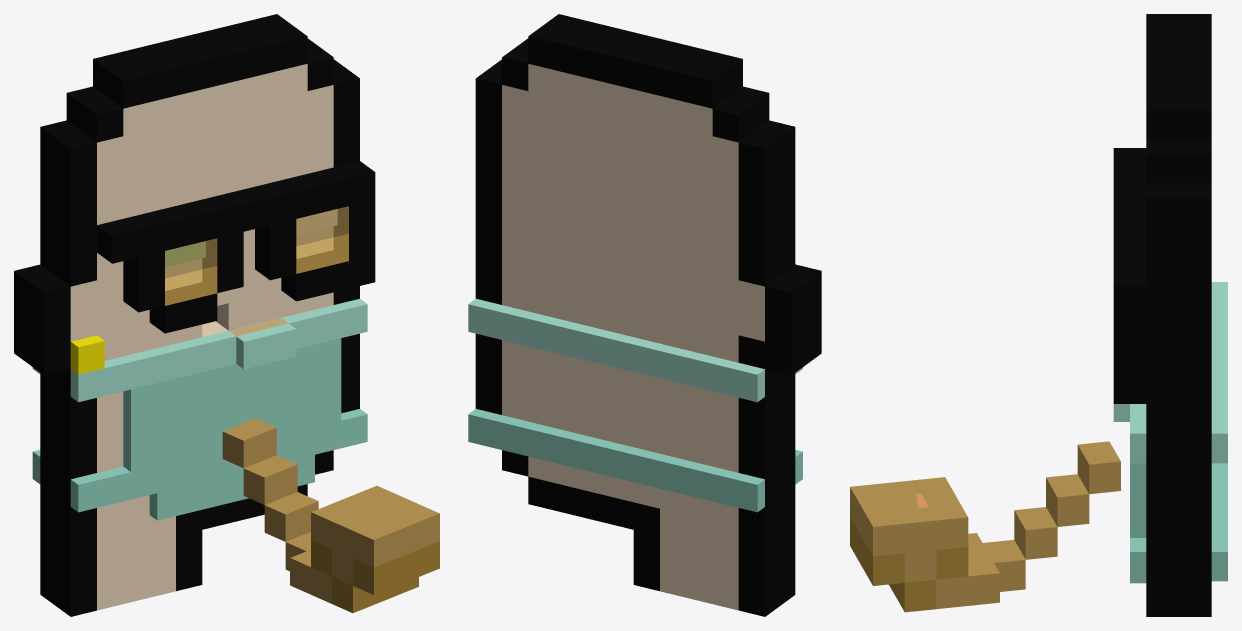
3 views of the same model, side by side, from view 1: azimuth 30°, elevation 25°; view 2: azimuth 150°, elevation 25°; view 3: azimuth 270°, elevation 25° (orthographic). The views are drawn at different scales.
Visible parts, largest first — view 1: face_main, accessories_surgery_mask, glasses_sun_mini_mount, pipe (×2), back_main, glasses_sun_mini_glass, accessories_surgery_mask_nose, jewels_hearing, eyebrows_right, eyebrows_left; view 2: back_main, accessories_surgery_mask_back, face_main; view 3: pipe (×2), face_main, back_main, glasses_sun_mini_mount, accessories_surgery_mask_back, accessories_surgery_mask.
Part boxes in pixels (left/top/right/bottom): face_main: left=29, top=25, right=359, bottom=616; accessories_surgery_mask: left=70, top=298, right=367, bottom=520; glasses_sun_mini_mount: left=97, top=161, right=375, bottom=333; pipe (×2): left=222, top=418, right=439, bottom=612; back_main: left=14, top=14, right=344, bottom=605; glasses_sun_mini_glass: left=165, top=206, right=348, bottom=305; accessories_surgery_mask_nose: left=229, top=318, right=296, bottom=369; jewels_hearing: left=70, top=335, right=104, bottom=374; eyebrows_right: left=296, top=209, right=337, bottom=234; eyebrows_left: left=165, top=241, right=205, bottom=266; back_main: left=475, top=25, right=806, bottom=616; accessories_surgery_mask_back: left=468, top=299, right=764, bottom=512; face_main: left=491, top=14, right=821, bottom=605; pipe (×2): left=850, top=441, right=1120, bottom=612; face_main: left=1146, top=14, right=1178, bottom=616; back_main: left=1179, top=14, right=1211, bottom=616; glasses_sun_mini_mount: left=1113, top=148, right=1146, bottom=403; accessories_surgery_mask_back: left=1211, top=282, right=1227, bottom=581; accessories_surgery_mask: left=1130, top=404, right=1146, bottom=583.
Bounding box in the file's own units: 12 × 19 × 11.59.
